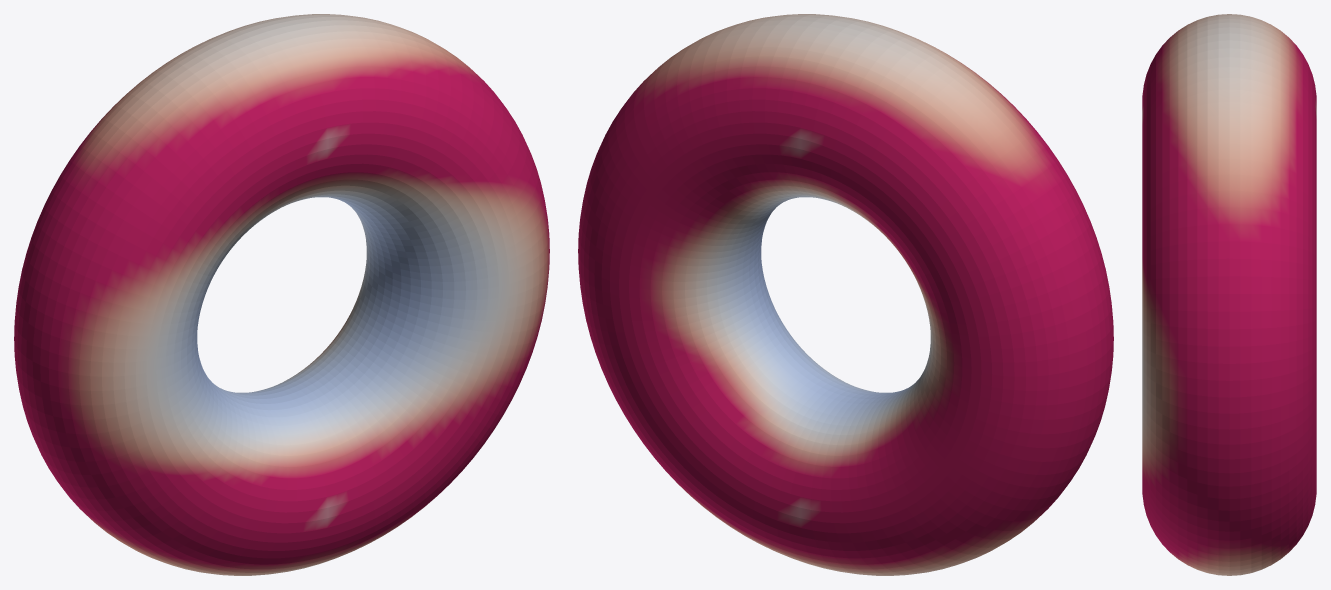
The picture shows the model from 3 angles, left to right: view 1: azimuth 30°, elevation 25°; view 2: azimuth 150°, elevation 25°; view 3: azimuth 270°, elevation 25°; orthographic projection. The views are drawn at different scales.
Visible parts, largest first — view 1: world; view 2: world; view 3: world.
Boxes of the visible parts, x1,y1,x2,y2 form: world: (14, 14, 549, 575); world: (578, 14, 1113, 575); world: (1142, 14, 1316, 575).
Bounding box in the file's own units: 27.07 × 27.07 × 8.38.
